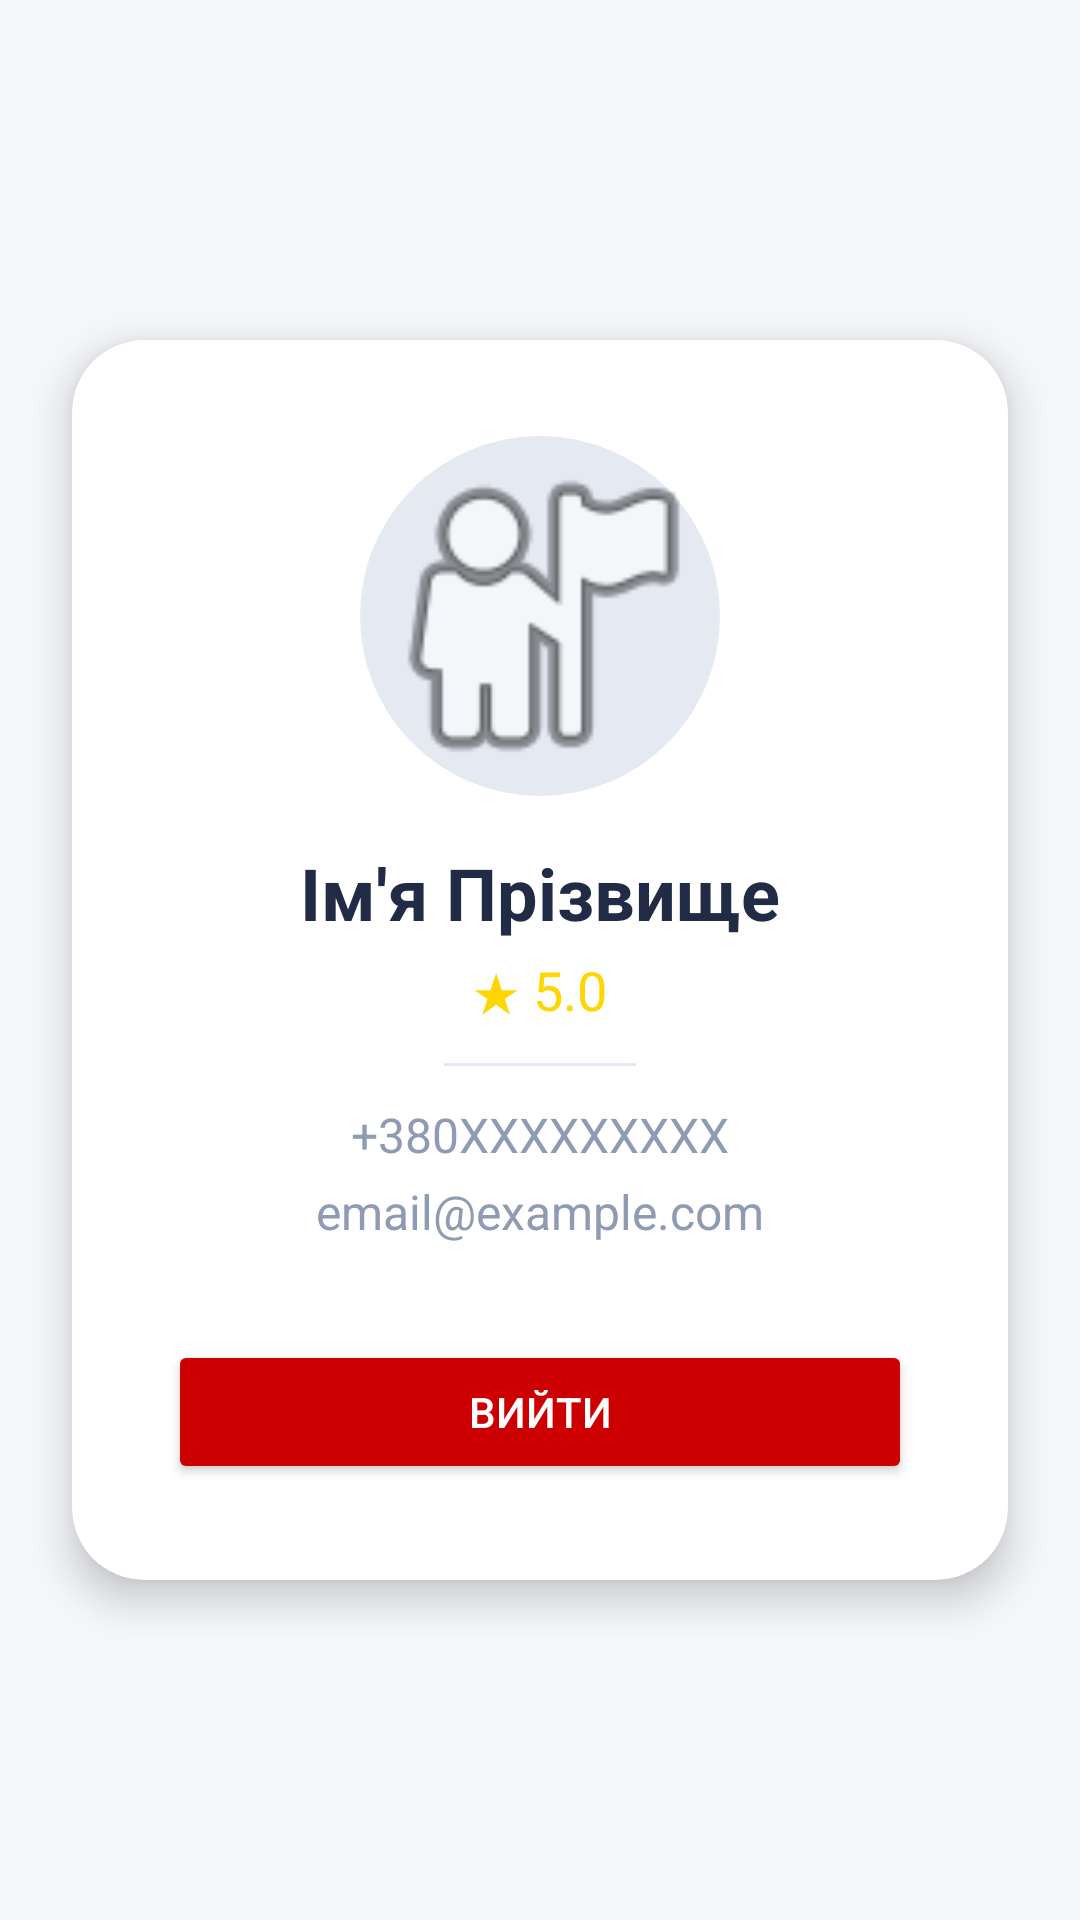

Icon bounding boxes for this 1080×1920 phone screenshot, format (x1=x1, y1=y1, x2=x2, y2=y2):
myplaces: (x1=360, y1=436, x2=720, y2=796)
